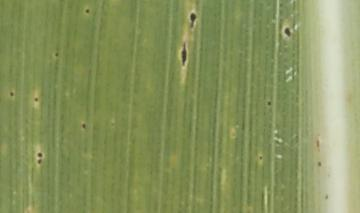tarspot: (179, 40, 188, 66), (188, 12, 197, 30), (282, 25, 292, 37), (35, 158, 44, 166), (36, 150, 44, 159), (314, 137, 320, 148), (265, 99, 273, 107), (323, 192, 330, 201), (53, 51, 60, 60), (84, 7, 91, 15), (8, 90, 16, 97), (316, 160, 322, 169), (80, 122, 86, 130), (258, 154, 264, 161), (33, 96, 39, 103)
